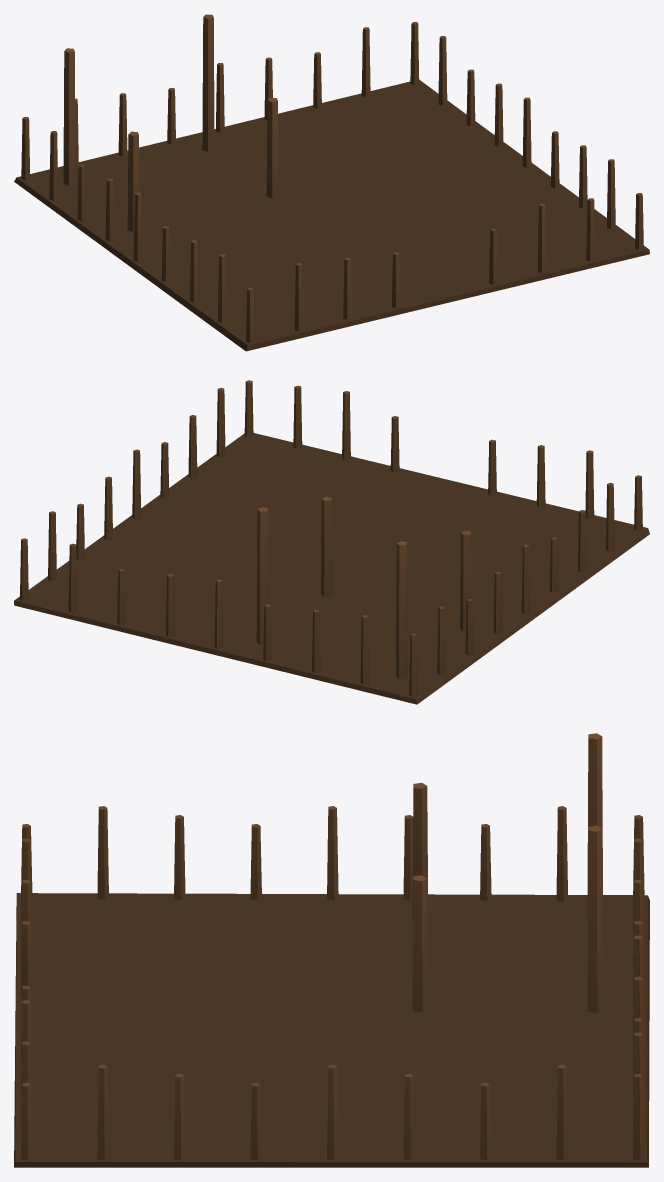
Rendered from pasture_s1.glb.
The picture shows the model from 3 angles, top to bottom: view 1: azimuth 30°, elevation 25°; view 2: azimuth 150°, elevation 25°; view 3: azimuth 270°, elevation 25°; orthographic projection. The views are drawn at different scales.
Parts seen in each view (by area): view 1: pasture_s1; view 2: pasture_s1; view 3: pasture_s1.
Part boxes in pixels (<box>): pasture_s1: <box>14,14,649,351</box>; pasture_s1: <box>14,380,649,704</box>; pasture_s1: <box>14,733,649,1167</box>.
Size of the model in its own units: 2.91 by 0.95 by 2.91.
